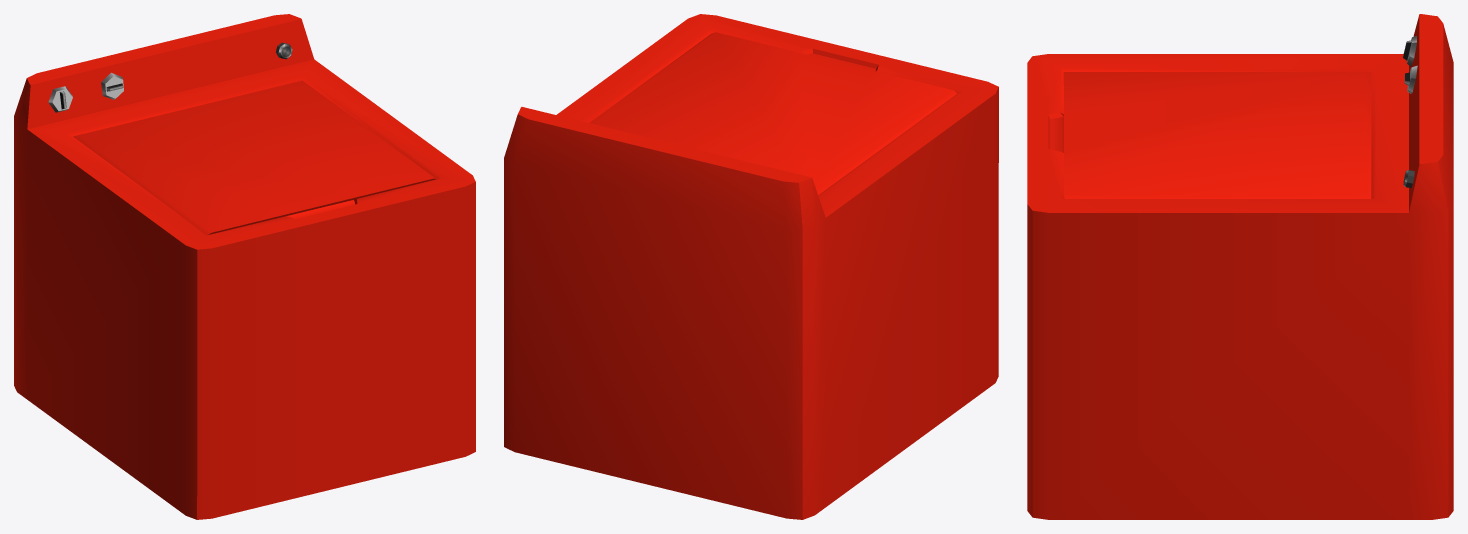
File: Washer_03.FBX
3 renders of one model, left to right at view 1: azimuth 30°, elevation 25°; view 2: azimuth 150°, elevation 25°; view 3: azimuth 270°, elevation 25°, orthographic. The views are drawn at different scales.
Parts seen in each view (by area): view 1: Washer; view 2: Washer; view 3: Washer.
Part boxes in pixels (left/top/right/bottom): Washer: left=14, top=14, right=475, bottom=519; Washer: left=504, top=14, right=998, bottom=519; Washer: left=1027, top=14, right=1453, bottom=519.
Size of the model in its own units: 150 by 155 by 170.
